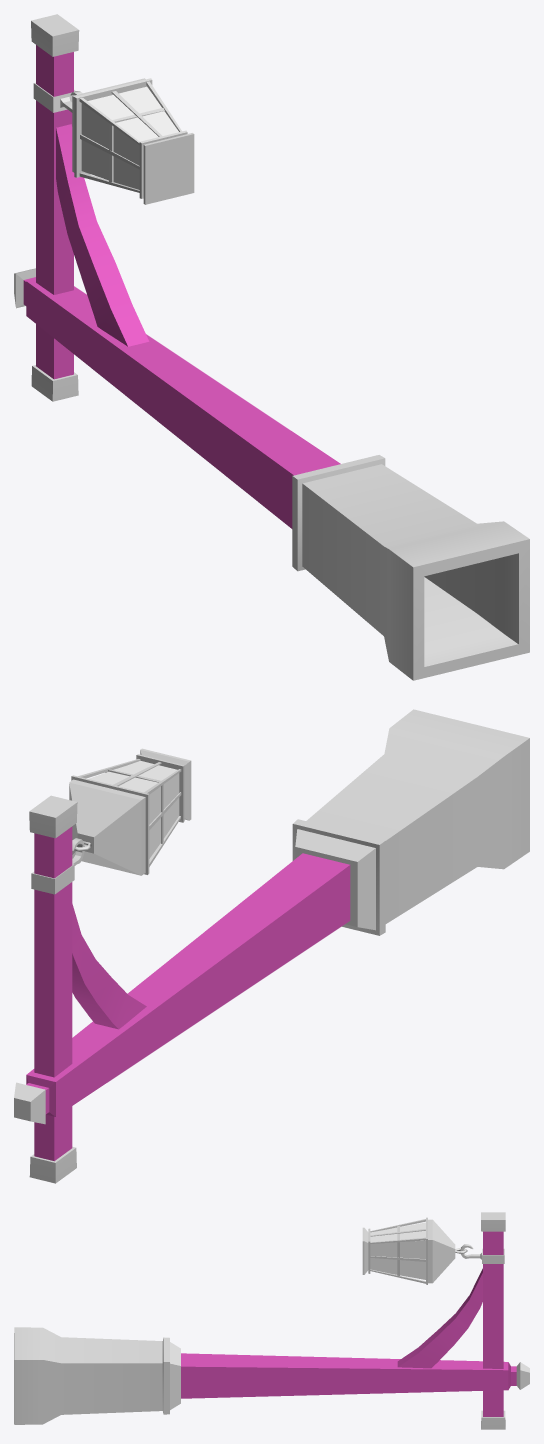
The model's file is lantern.fbx.
3 views of the same model, one above another, from view 1: azimuth 30°, elevation 25°; view 2: azimuth 150°, elevation 25°; view 3: azimuth 270°, elevation 25° (orthographic). The views are drawn at different scales.
Visible parts, largest first — view 1: object_0; view 2: object_0; view 3: object_0.
Boxes of the visible parts, x1=… form: object_0: x1=14, y1=14, x2=529, y2=680; object_0: x1=14, y1=709, x2=529, y2=1183; object_0: x1=14, y1=1212, x2=529, y2=1429.
Size of the model in its own units: 120 by 359 by 800.
